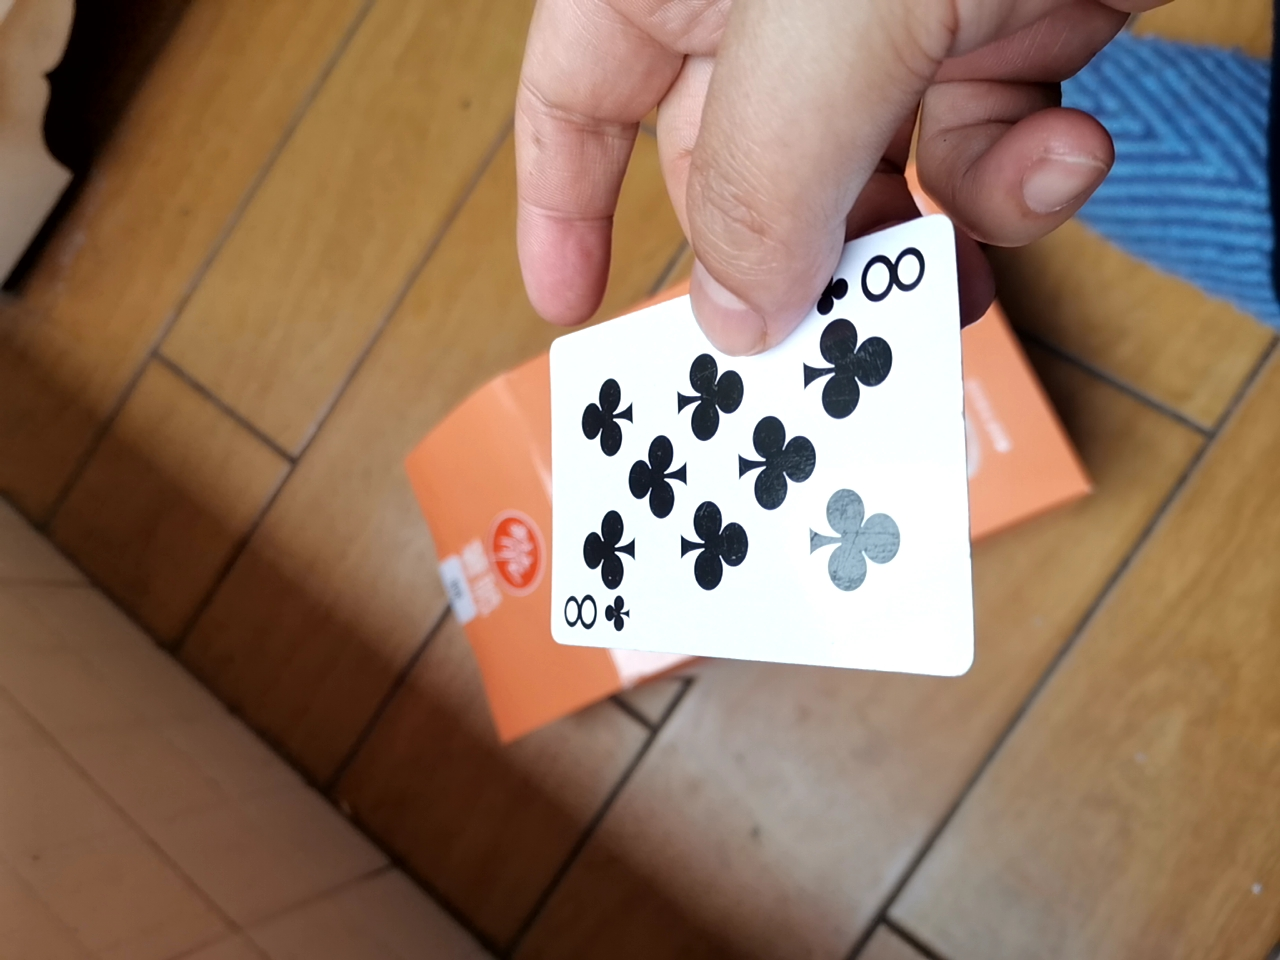mh 8: (522, 210, 968, 679)
